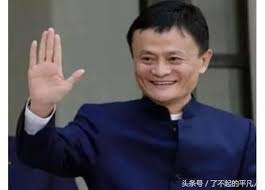hand: (26, 26, 85, 106)
